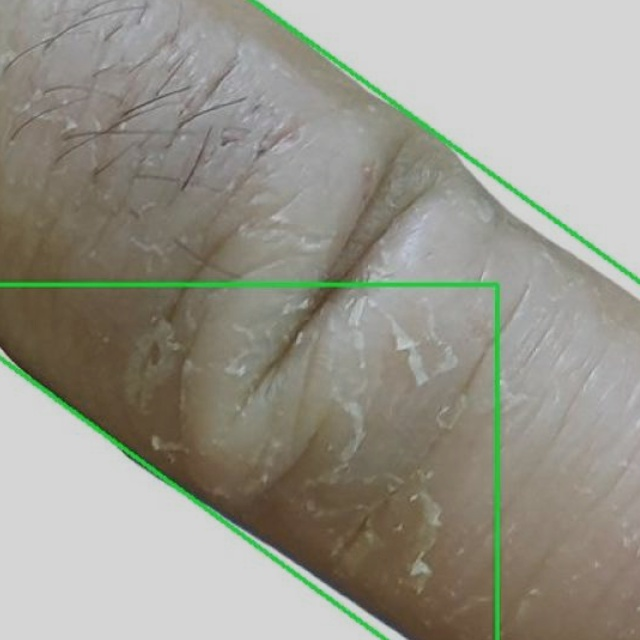Eczema: (0, 0, 639, 639), (0, 284, 497, 639)
